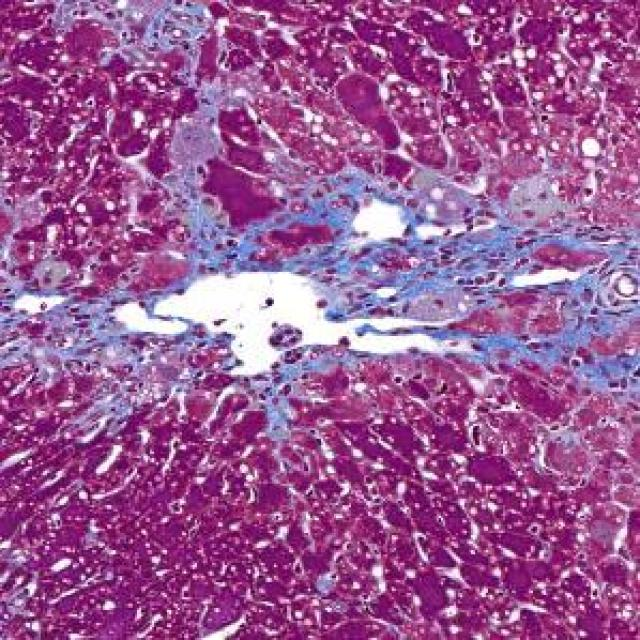fibrosis: (287, 175, 569, 332)
